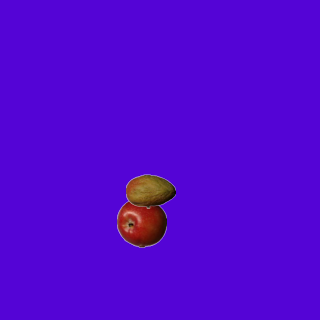Apple Braeburn: (116, 197, 166, 247)
Papaya: (125, 166, 175, 216)
